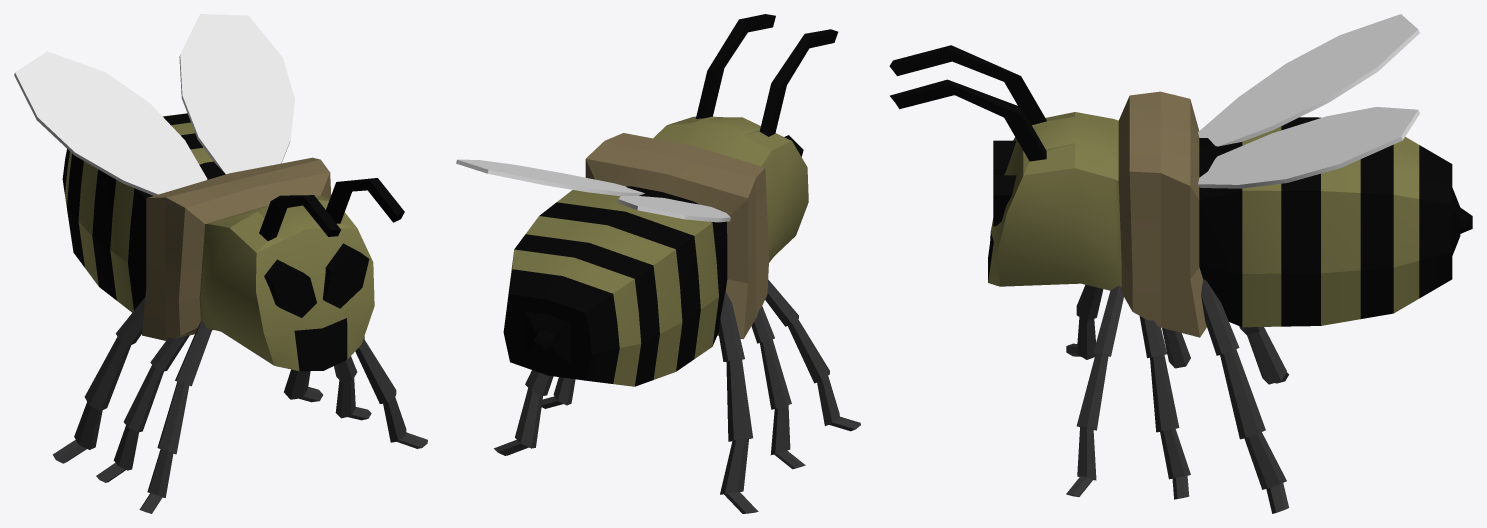
Rendered from Bee.fbx.
The picture shows the model from 3 angles, left to right: view 1: azimuth 30°, elevation 25°; view 2: azimuth 150°, elevation 25°; view 3: azimuth 270°, elevation 25°; orthographic projection. The views are drawn at different scales.
Parts seen in each view (by area): view 1: Bee; view 2: Bee; view 3: Bee.
Part boxes in pixels (x1,y1,x2,y2): Bee: [14, 14, 427, 513]; Bee: [456, 14, 860, 513]; Bee: [889, 14, 1472, 513].
Bounding box in the file's own units: 2.33 × 2.76 × 3.8.
